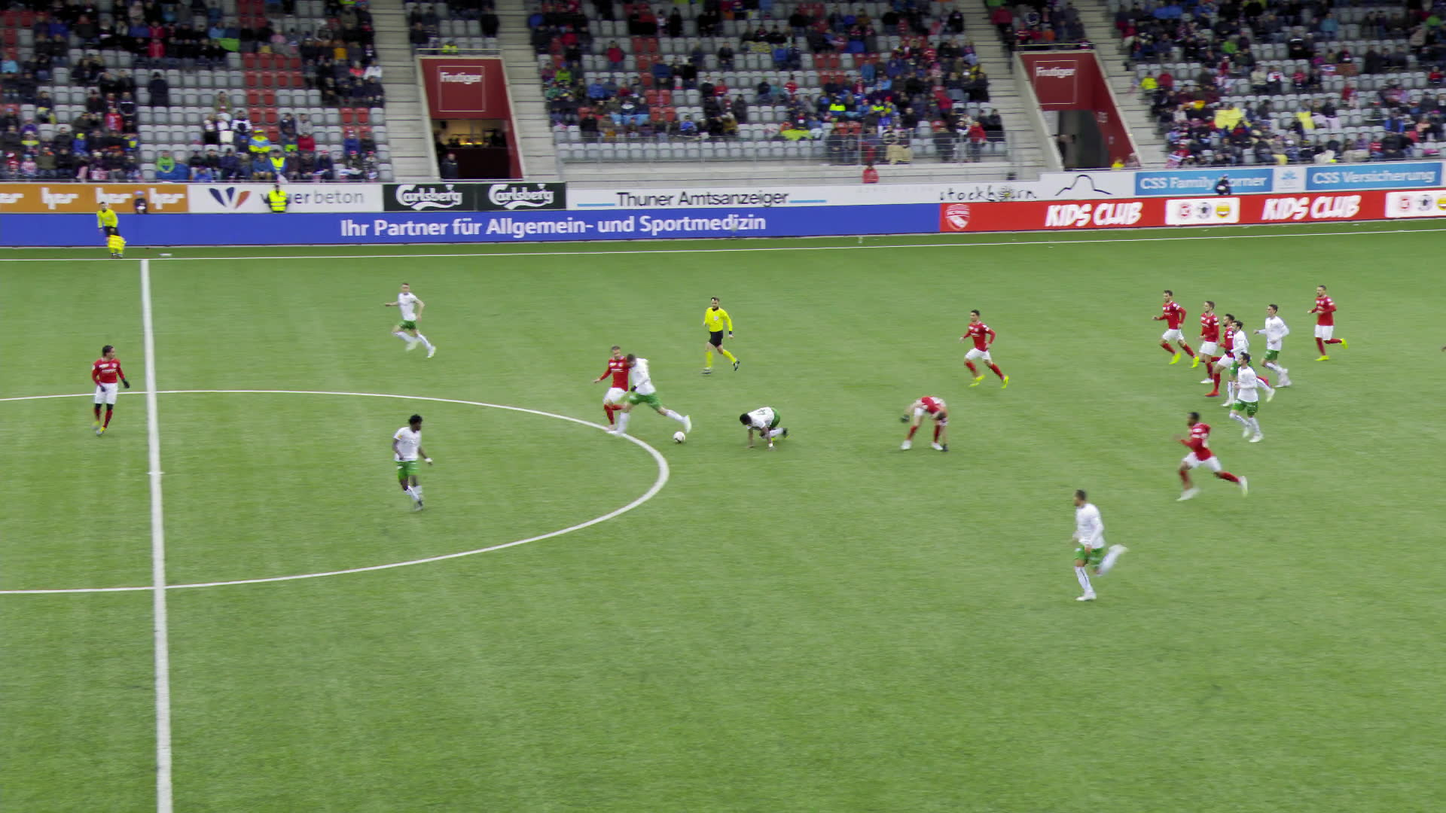ball: (672, 429, 686, 445)
player: (1062, 481, 1133, 607), (1167, 406, 1247, 503), (620, 351, 689, 441), (1202, 315, 1271, 400), (390, 411, 447, 513), (1215, 318, 1277, 407), (594, 340, 645, 436), (88, 340, 136, 435), (957, 307, 1010, 393), (383, 281, 438, 362), (879, 392, 945, 458), (1150, 287, 1202, 370), (1188, 298, 1236, 385), (1225, 350, 1268, 445), (1251, 300, 1295, 390), (1304, 283, 1349, 364), (733, 402, 797, 455), (1437, 344, 1445, 352)
referee: (697, 295, 740, 375), (86, 200, 121, 258)
